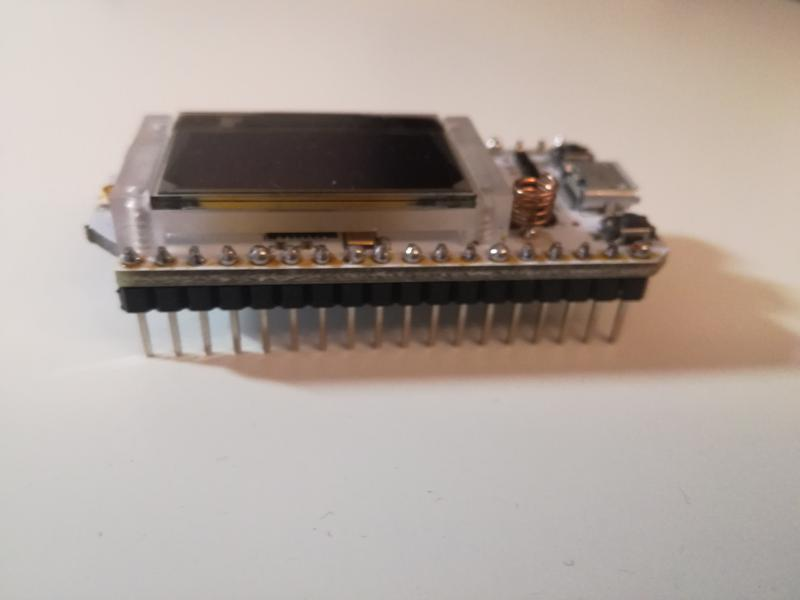Heltec_ESP32_Lora: (82, 103, 677, 353)
